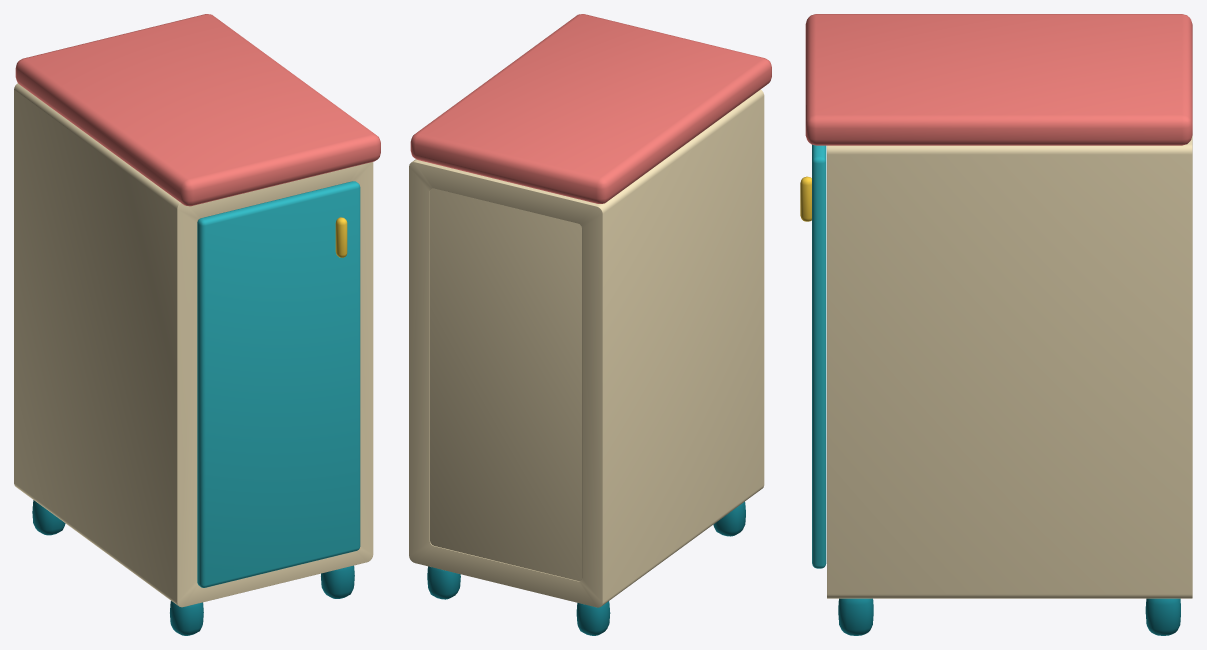
Rendered from armario_cozinha_base_1porta_moderna_coral.glb.
3 renders of one model, left to right at view 1: azimuth 30°, elevation 25°; view 2: azimuth 150°, elevation 25°; view 3: azimuth 270°, elevation 25°, orthographic. The views are drawn at different scales.
Visible parts, largest first — view 1: armario_cozinha_base_1porta_moderna_coral, porta_1; view 2: armario_cozinha_base_1porta_moderna_coral; view 3: armario_cozinha_base_1porta_moderna_coral, porta_1.
Boxes of the visible parts, box(x1,y1,x2,y2) form: armario_cozinha_base_1porta_moderna_coral: box(14, 14, 380, 635); porta_1: box(197, 181, 360, 587); armario_cozinha_base_1porta_moderna_coral: box(409, 14, 771, 635); armario_cozinha_base_1porta_moderna_coral: box(805, 14, 1192, 635); porta_1: box(800, 144, 826, 568).
Size of the model in its own units: 0.398 by 0.9 by 0.607.
1 material, 1 textured.
